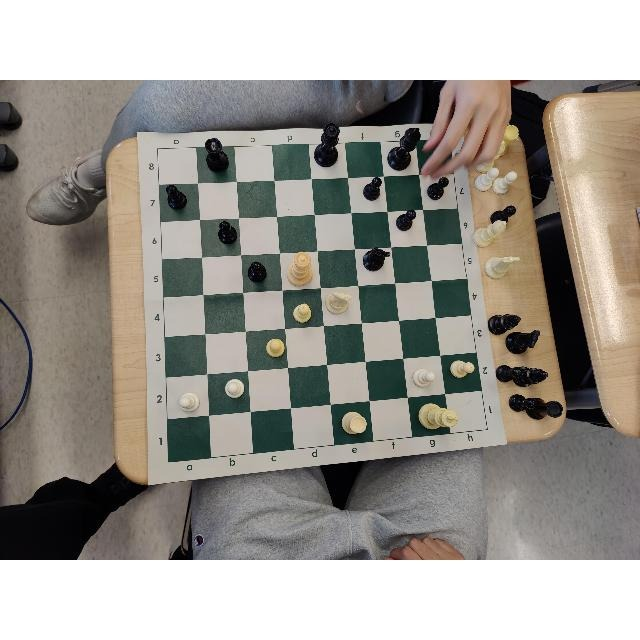black-king: (387, 127, 420, 170)
black-knight: (363, 246, 391, 271)
black-pawn: (166, 184, 188, 209), (427, 178, 449, 200), (397, 208, 417, 231), (363, 178, 382, 200), (219, 221, 237, 244), (247, 262, 267, 282)
black-queen: (313, 123, 339, 167)
black-rook: (204, 138, 229, 173)
white-king: (418, 403, 457, 429)
white-knight: (327, 291, 351, 315)
white-pawn: (178, 392, 200, 413), (412, 369, 436, 387), (451, 361, 475, 379), (224, 379, 243, 399), (266, 339, 286, 357), (293, 303, 311, 323)
white-queen: (287, 250, 312, 285)
white-rook: (341, 411, 366, 434)
